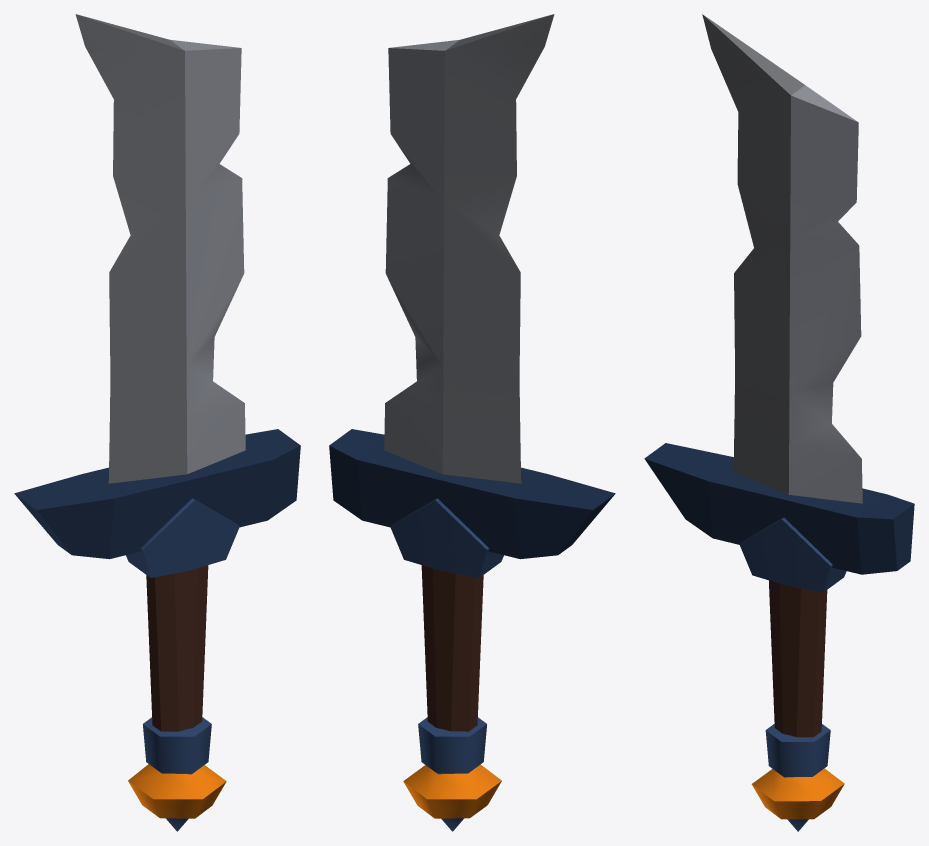
The model's file is Sword_RHand_24.fbx.
3 renders of one model, left to right at view 1: azimuth 30°, elevation 25°; view 2: azimuth 150°, elevation 25°; view 3: azimuth 330°, elevation 25°, orthographic. The views are drawn at different scales.
Visible parts, largest first — view 1: Sword_RHand_24; view 2: Sword_RHand_24; view 3: Sword_RHand_24.
Boxes of the visible parts, bbox=[...] form: Sword_RHand_24: bbox=[14, 14, 300, 831]; Sword_RHand_24: bbox=[329, 14, 615, 831]; Sword_RHand_24: bbox=[644, 14, 914, 831].
Bounding box in the file's own units: 31.82 × 97.05 × 10.56.
